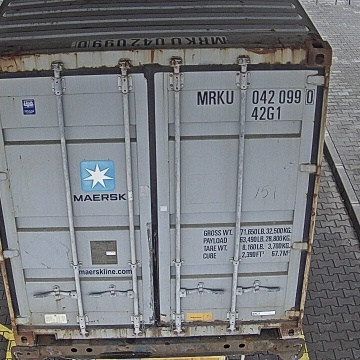serial_id: (197, 89, 313, 105)
